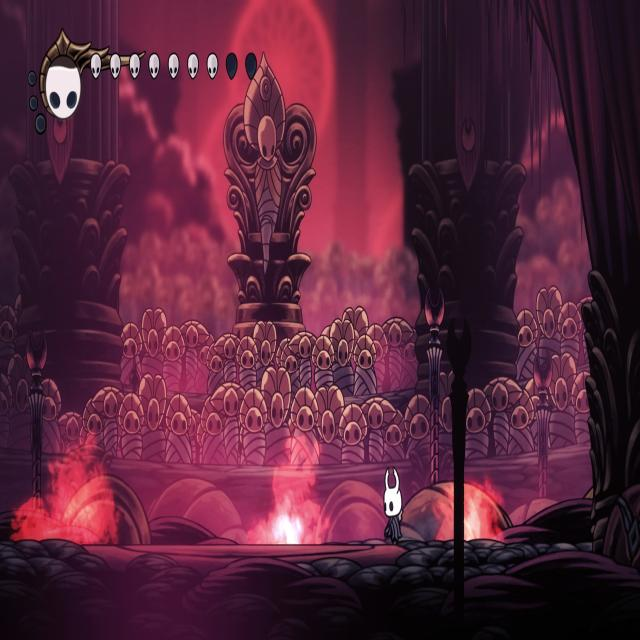Fireball: (34, 480, 104, 543), (453, 487, 486, 541), (263, 506, 303, 545)
Player: (381, 462, 406, 545)
